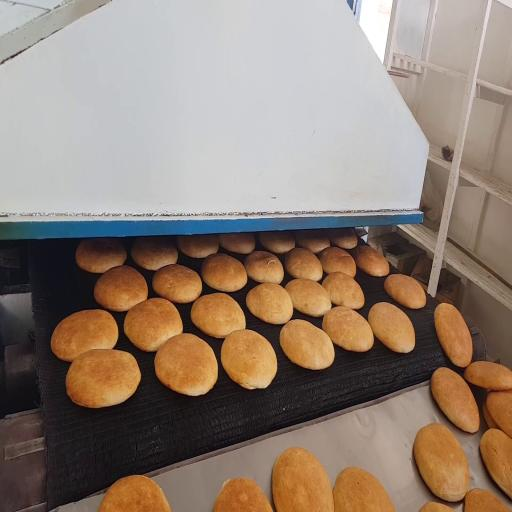bread: (66, 349, 141, 408), (414, 423, 469, 502), (272, 448, 334, 511), (155, 334, 217, 396), (51, 310, 118, 362), (221, 330, 277, 389), (124, 298, 182, 351), (431, 368, 479, 432), (280, 320, 334, 369), (334, 467, 394, 511), (98, 476, 170, 511), (435, 303, 473, 367), (191, 293, 245, 338), (368, 302, 415, 353), (94, 266, 147, 311), (323, 307, 373, 352), (480, 429, 511, 498), (213, 478, 272, 511), (246, 283, 293, 324), (152, 265, 202, 303), (76, 238, 126, 273), (285, 279, 331, 317), (201, 254, 247, 292), (131, 236, 178, 271), (323, 272, 364, 309), (384, 275, 426, 309), (464, 362, 511, 391), (244, 251, 283, 283), (285, 248, 322, 281), (486, 391, 511, 437), (319, 247, 356, 277), (355, 246, 389, 276), (464, 489, 509, 511), (177, 235, 218, 258), (259, 231, 295, 254), (295, 230, 330, 253), (218, 233, 255, 254), (328, 228, 358, 249), (482, 401, 499, 429), (420, 502, 452, 511)
